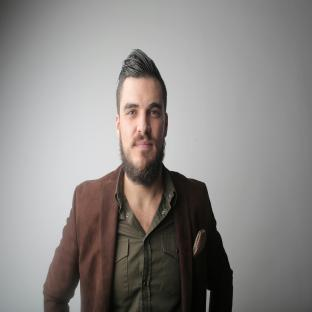Human: (43, 49, 233, 312)
